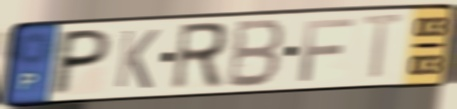B: (223, 17, 288, 90)
F: (297, 16, 357, 84)
K: (112, 27, 162, 91)
P: (47, 27, 116, 99)
R: (167, 20, 230, 94)
T: (358, 11, 411, 83)
